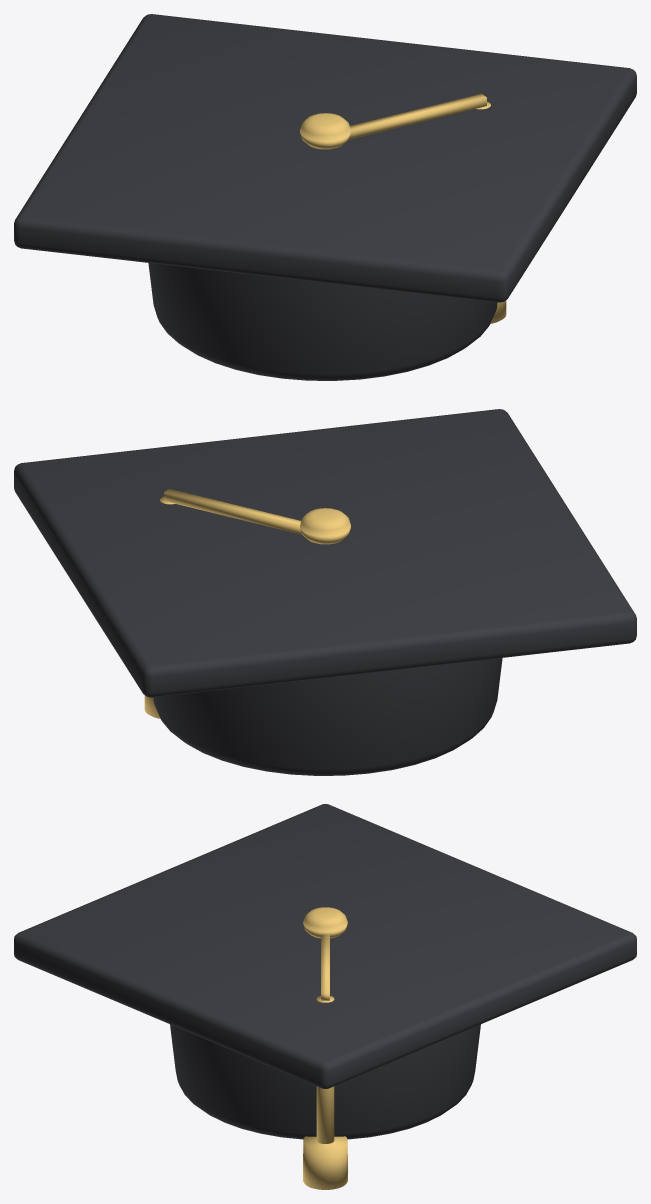
Rendered from career--nagaoka.glb.
3 renders of one model, top to bottom at view 1: azimuth 30°, elevation 25°; view 2: azimuth 150°, elevation 25°; view 3: azimuth 270°, elevation 25°, orthographic. The views are drawn at different scales.
Visible parts, largest first — view 1: career--nagaoka; view 2: career--nagaoka; view 3: career--nagaoka.
Part boxes in pixels (x1,y1,x2,y2): career--nagaoka: (14, 14, 636, 380); career--nagaoka: (14, 409, 636, 775); career--nagaoka: (14, 804, 636, 1189).
Bounding box in the file's own units: 0.6924 × 0.2476 × 0.6924.
